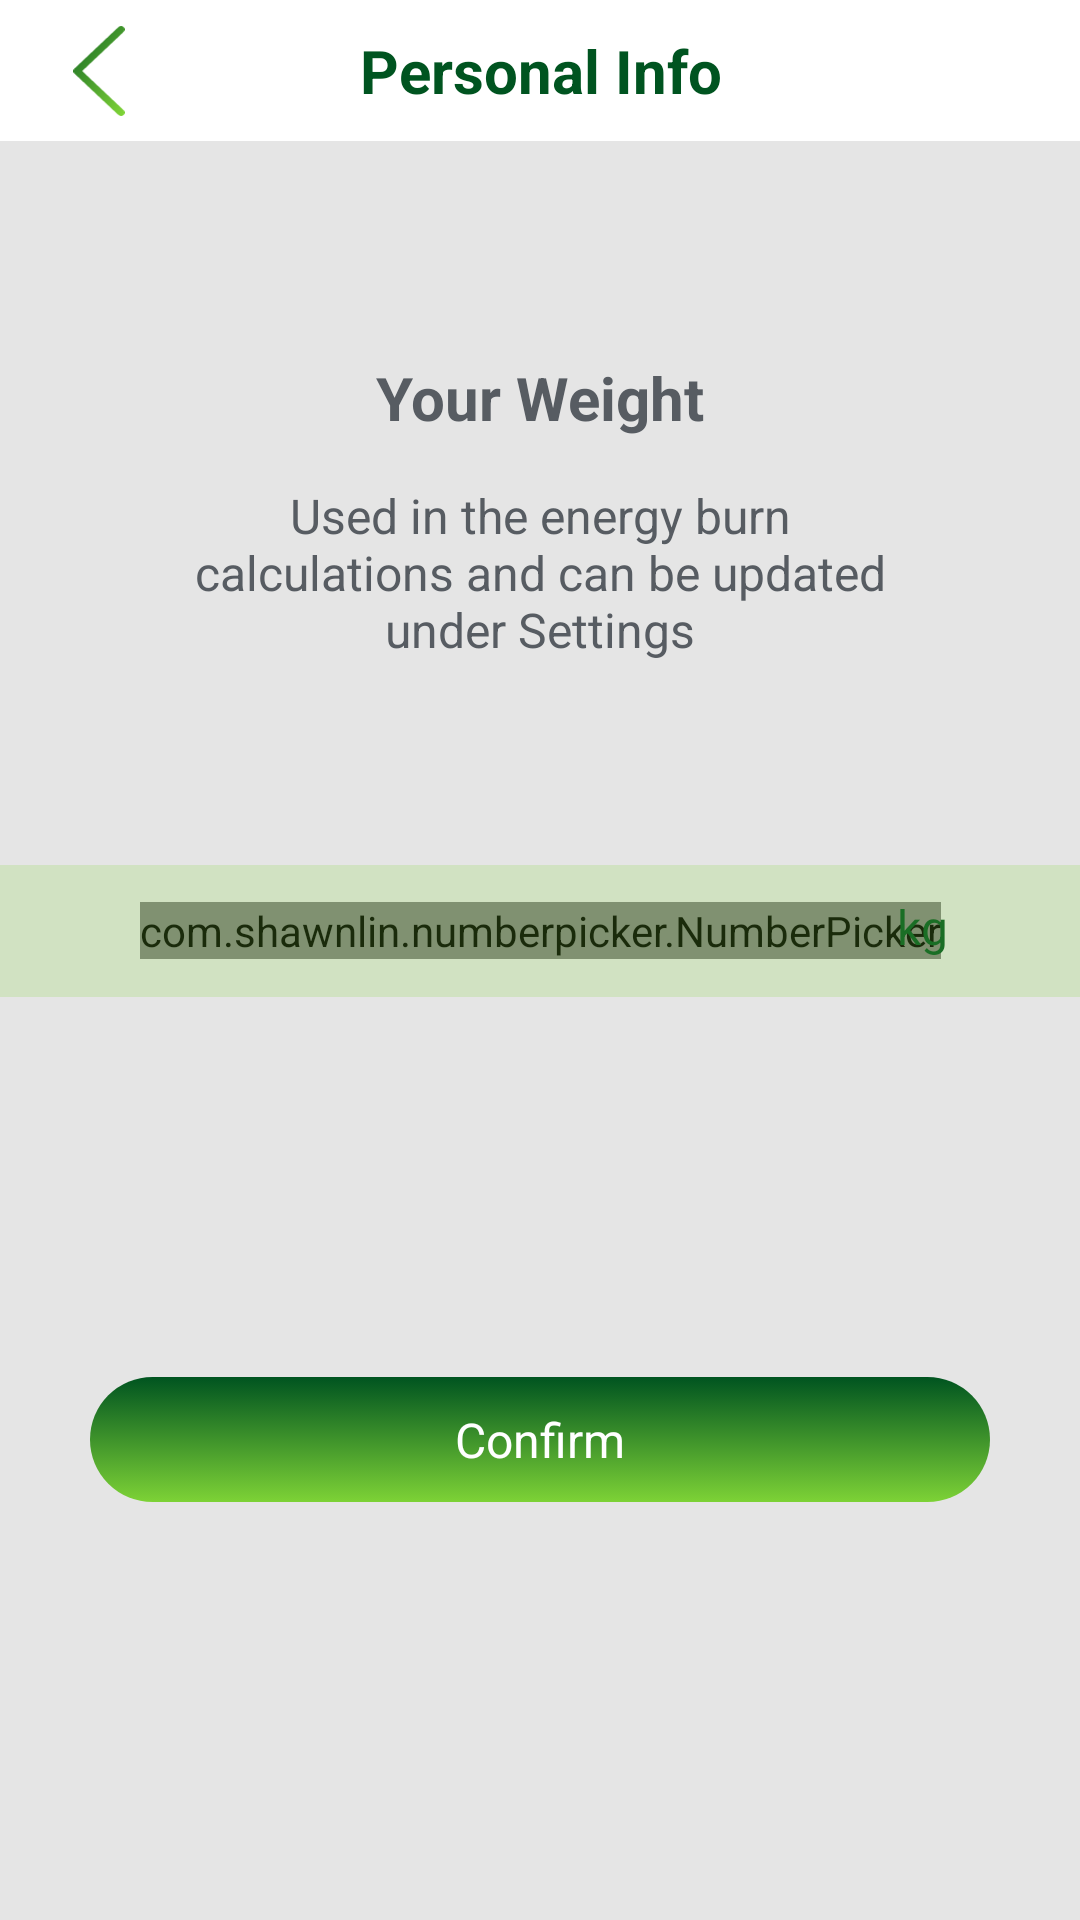

Screen size 1080w x 1920h. Icon name, then its center in pixels as point (x, y):
back: point (99, 71)
